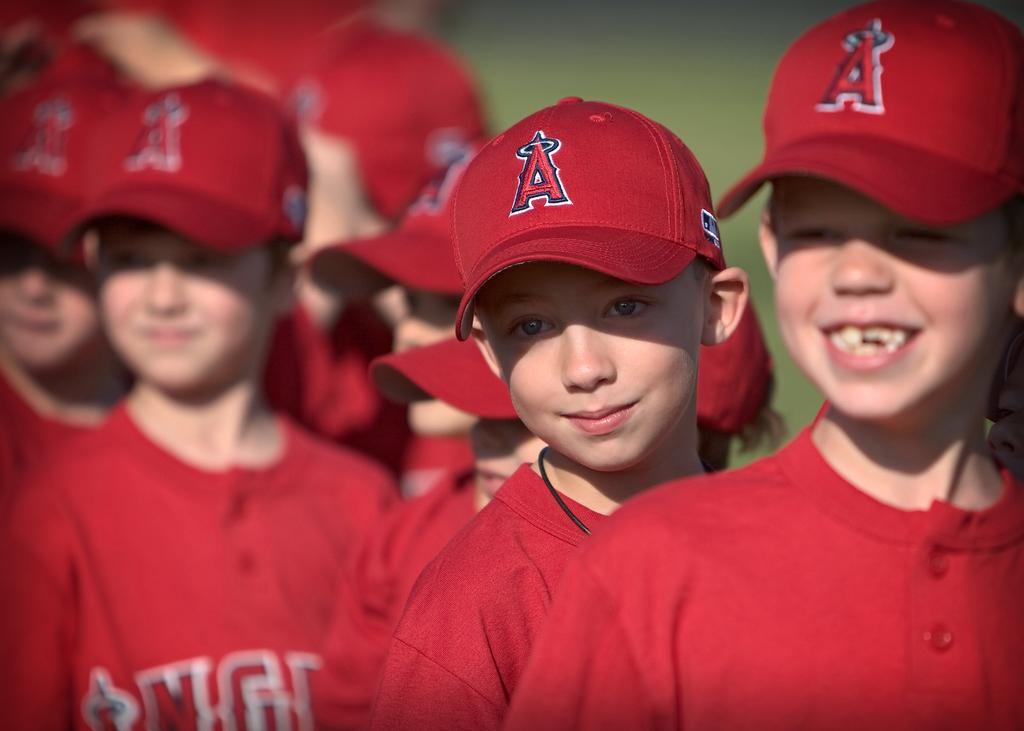Hat: (710, 0, 1022, 229), (454, 96, 723, 340), (364, 284, 770, 431), (56, 74, 320, 250), (300, 32, 496, 220), (0, 45, 152, 270), (310, 182, 464, 302)
